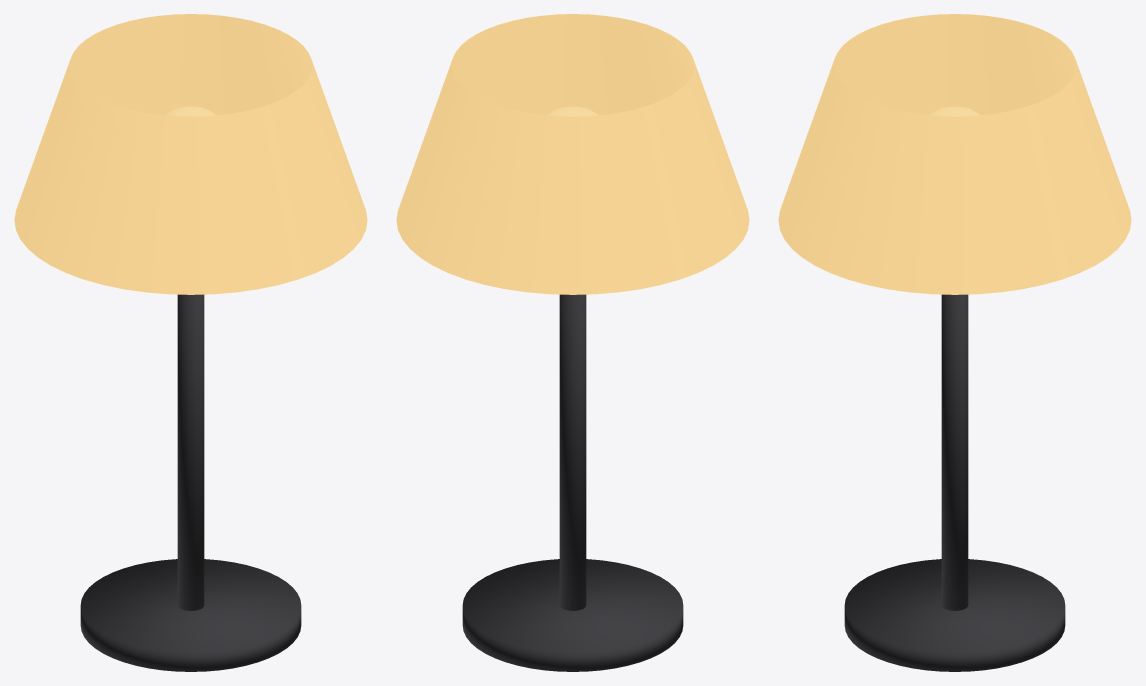
Rendered from table_lamp.glb.
3 renders of one model, left to right at view 1: azimuth 30°, elevation 25°; view 2: azimuth 150°, elevation 25°; view 3: azimuth 270°, elevation 25°, orthographic.
Parts seen in each view (by area): view 1: TableLamp_Shade, TableLamp_Base, TableLamp_Pole; view 2: TableLamp_Shade, TableLamp_Base, TableLamp_Pole; view 3: TableLamp_Shade, TableLamp_Base, TableLamp_Pole.
Part boxes in pixels (box(x1,y1,x2,y2)): TableLamp_Shade: box(14, 14, 367, 294); TableLamp_Base: box(80, 559, 301, 671); TableLamp_Pole: box(177, 294, 204, 610); TableLamp_Shade: box(396, 14, 749, 294); TableLamp_Base: box(462, 559, 683, 671); TableLamp_Pole: box(559, 294, 586, 610); TableLamp_Shade: box(778, 14, 1131, 294); TableLamp_Base: box(844, 559, 1065, 671); TableLamp_Pole: box(941, 294, 968, 610).
Size of the model in its own units: 0.32 by 0.56 by 0.32.
